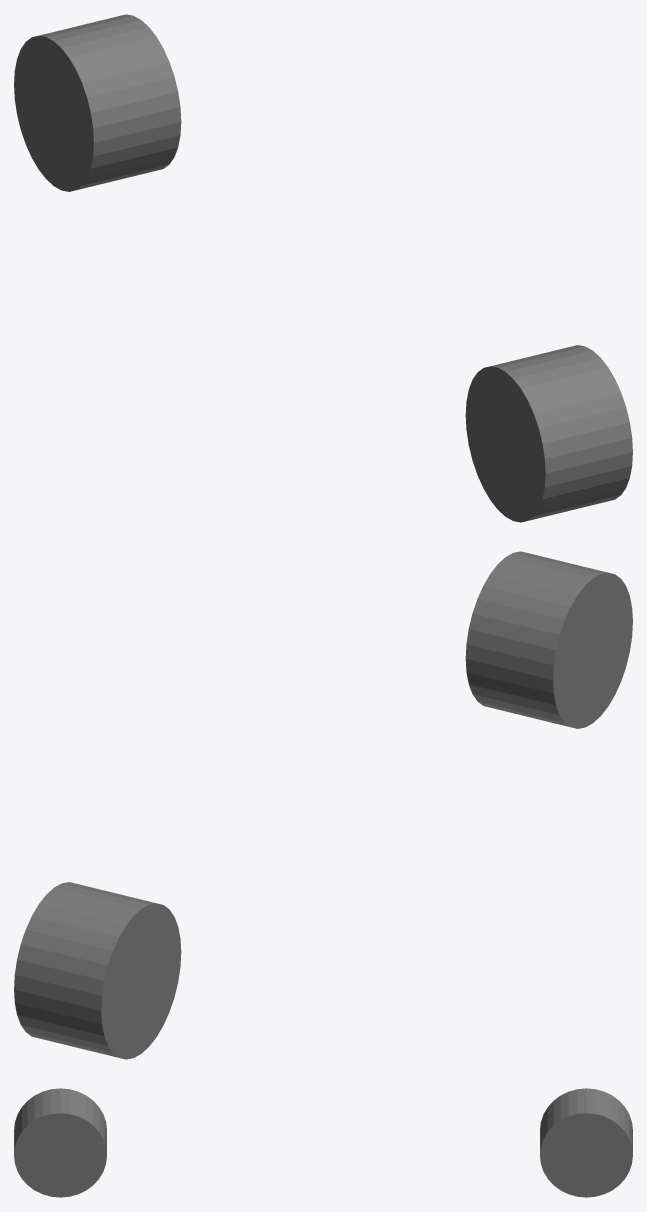
Rendered from pstick.obj.
3 views of the same model, one above another, from view 1: azimuth 30°, elevation 25°; view 2: azimuth 150°, elevation 25°; view 3: azimuth 270°, elevation 25° (orthographic). The views are drawn at different scales.
Parts seen in each view (by area): view 1: Cylinder.005_Cylinder.000; view 2: Cylinder.005_Cylinder.000; view 3: Cylinder.005_Cylinder.000.
Part boxes in pixels (left/top/right/bottom): Cylinder.005_Cylinder.000: left=14, top=14, right=632, bottom=522; Cylinder.005_Cylinder.000: left=14, top=551, right=632, bottom=1059; Cylinder.005_Cylinder.000: left=14, top=1088, right=632, bottom=1197.
Size of the model in its own units: 0.0492 by 0.0779 by 0.5183.
1 material, 1 textured.
